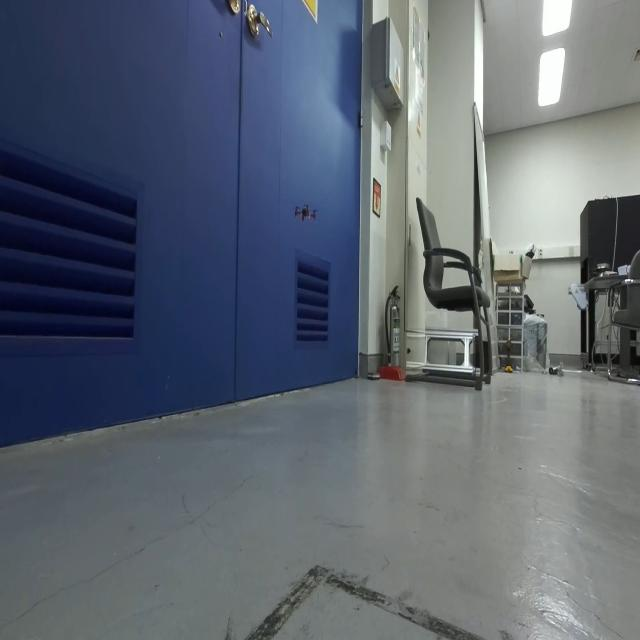crazyflie: (292, 196, 321, 231)
